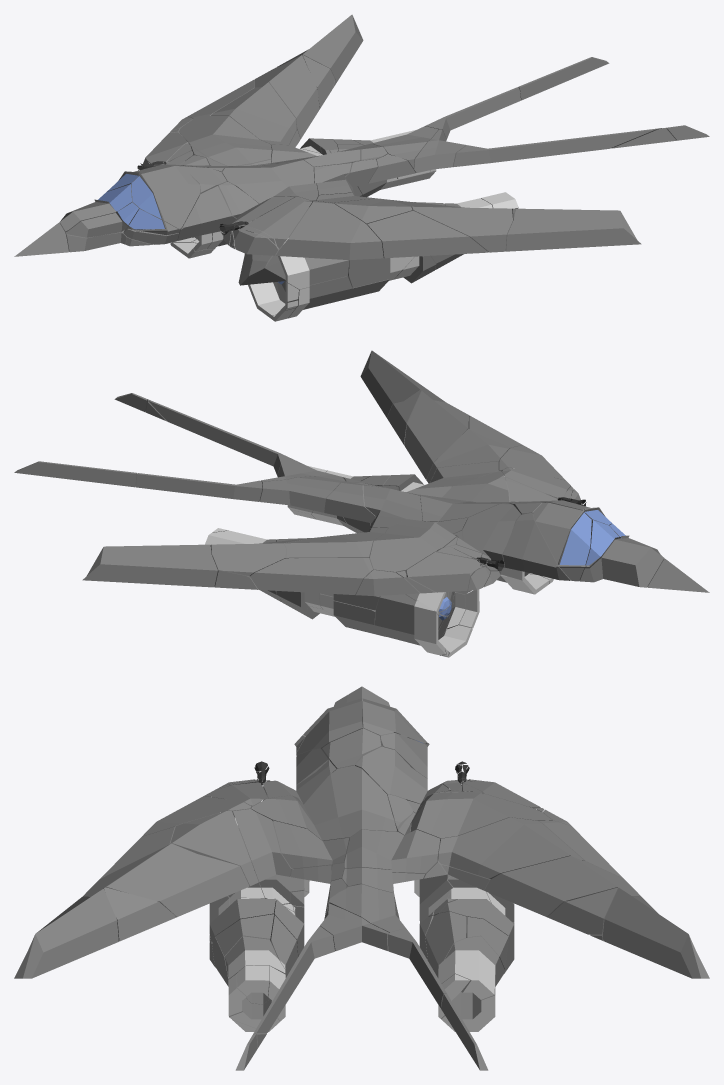
Rendered from Attack_BIrd_expl.fbx.
The picture shows the model from 3 angles, top to bottom: view 1: azimuth 30°, elevation 25°; view 2: azimuth 150°, elevation 25°; view 3: azimuth 270°, elevation 25°; orthographic projection. The views are drawn at different scales.
Visible parts, largest first — view 1: Bird_AttackShip_cell.014, Bird_AttackShip_cell.135, Bird_AttackShip_cell.016, Bird_AttackShip_cell.127, Bird_AttackShip_cell.007, Bird_AttackShip_cell.132, Bird_AttackShip_cell.092, Bird_AttackShip_cell.138, Bird_AttackShip_cell.125, Bird_AttackShip_cell.059, Bird_AttackShip_cell.091, Bird_AttackShip_cell.115 (+30 smaller); view 2: Bird_AttackShip_cell.091, Bird_AttackShip_cell.028, Bird_AttackShip_cell.056, Bird_AttackShip_cell.125, Bird_AttackShip_cell.068, Bird_AttackShip_cell.127, Bird_AttackShip_cell.082, Bird_AttackShip_cell.132, Bird_AttackShip_cell.060, Bird_AttackShip_cell.008, Bird_AttackShip_cell.014, Bird_AttackShip_cell.092 (+30 smaller); view 3: Bird_AttackShip_cell.125, Bird_AttackShip_cell.132, Bird_AttackShip_cell.138, Bird_AttackShip_cell.059, Bird_AttackShip_cell.091, Bird_AttackShip_cell.014, Bird_AttackShip_cell.127, Bird_AttackShip_cell.083, Bird_AttackShip_cell.113, Bird_AttackShip_cell.008, Bird_AttackShip_cell.102, Bird_AttackShip_cell.142 (+35 smaller).
Boxes of the visible parts, x1,y1,x2,y2 form: Bird_AttackShip_cell.014: (506,208,641,251); Bird_AttackShip_cell.135: (275,201,383,260); Bird_AttackShip_cell.016: (367,210,488,258); Bird_AttackShip_cell.127: (179,116,271,165); Bird_AttackShip_cell.007: (131,166,199,229); Bird_AttackShip_cell.132: (222,160,318,216); Bird_AttackShip_cell.092: (453,128,661,167); Bird_AttackShip_cell.138: (211,82,296,145); Bird_AttackShip_cell.125: (391,200,512,252); Bird_AttackShip_cell.059: (255,55,319,138); Bird_AttackShip_cell.091: (277,14,363,82); Bird_AttackShip_cell.115: (177,186,244,245); Bird_AttackShip_cell.091: (82,544,217,587); Bird_AttackShip_cell.028: (250,558,373,594); Bird_AttackShip_cell.056: (579,520,664,587); Bird_AttackShip_cell.125: (404,391,468,479); Bird_AttackShip_cell.068: (533,502,591,581); Bird_AttackShip_cell.127: (370,519,456,572); Bird_AttackShip_cell.082: (375,594,445,654); Bird_AttackShip_cell.132: (420,470,515,521); Bird_AttackShip_cell.060: (503,513,570,580); Bird_AttackShip_cell.008: (457,503,520,571); Bird_AttackShip_cell.014: (360,350,445,417); Bird_AttackShip_cell.092: (148,400,301,475); Bird_AttackShip_cell.125: (83,843,249,917); Bird_AttackShip_cell.132: (251,765,397,840); Bird_AttackShip_cell.138: (438,817,584,878); Bird_AttackShip_cell.059: (484,856,639,917); Bird_AttackShip_cell.091: (602,888,709,978); Bird_AttackShip_cell.014: (14,889,118,978); Bird_AttackShip_cell.127: (410,792,552,841); Bird_AttackShip_cell.083: (344,829,440,873); Bird_AttackShip_cell.113: (170,811,258,886); Bird_AttackShip_cell.008: (355,746,450,803); Bird_AttackShip_cell.102: (438,936,498,999); Bird_AttackShip_cell.142: (233,809,293,881).
Size of the model in its own units: 247 by 48.23 by 190.
